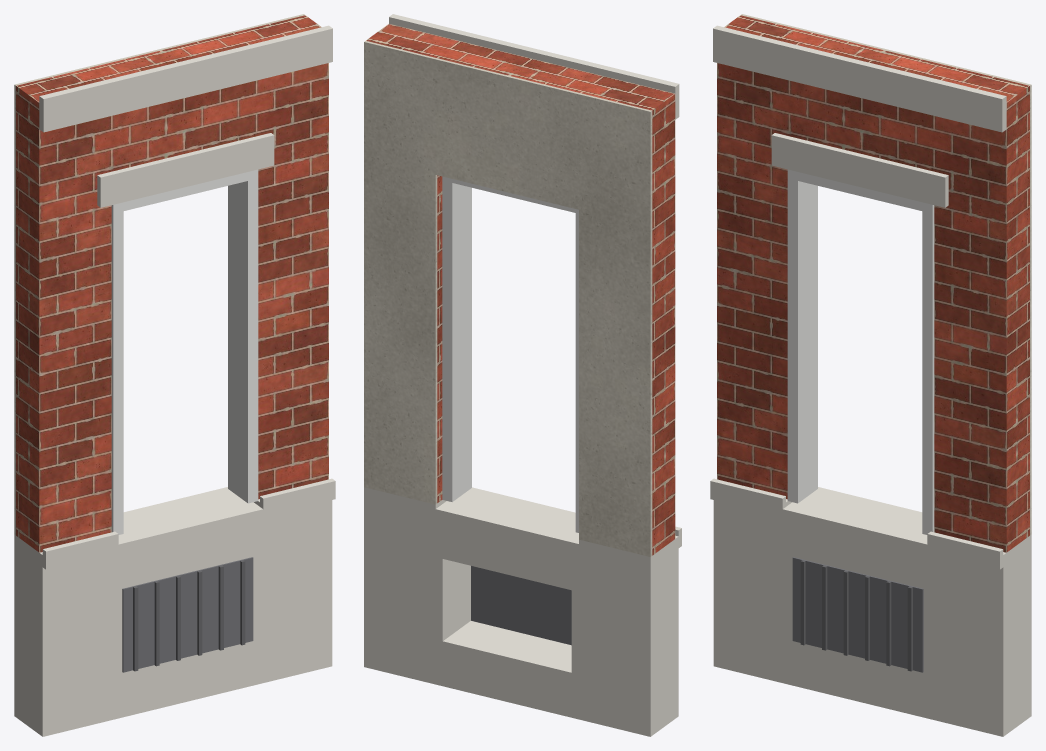
Rendered from wall_a0_backdoor.glb.
3 renders of one model, left to right at view 1: azimuth 30°, elevation 25°; view 2: azimuth 150°, elevation 25°; view 3: azimuth 330°, elevation 25°, orthographic.
Visible parts, largest first — view 1: wall_a0_backdoor_brick, wall_a0_backdoor_lime, wall_a0_backdoor_frame, wall_a0_backdoor_dark, wall_a0_backdoor_iron, wall_a0_backdoor_plaster; view 2: wall_a0_backdoor_plaster, wall_a0_backdoor_lime, wall_a0_backdoor_brick, wall_a0_backdoor_frame, wall_a0_backdoor_dark; view 3: wall_a0_backdoor_brick, wall_a0_backdoor_lime, wall_a0_backdoor_frame, wall_a0_backdoor_dark, wall_a0_backdoor_iron, wall_a0_backdoor_plaster.
Boxes of the visible parts, bbox=[...] form: wall_a0_backdoor_brick: bbox=[16, 15, 328, 552]; wall_a0_backdoor_lime: bbox=[14, 25, 335, 736]; wall_a0_backdoor_frame: bbox=[111, 169, 258, 534]; wall_a0_backdoor_dark: bbox=[122, 557, 253, 672]; wall_a0_backdoor_iron: bbox=[133, 560, 245, 671]; wall_a0_backdoor_plaster: bbox=[14, 14, 304, 535]; wall_a0_backdoor_plaster: bbox=[364, 41, 652, 556]; wall_a0_backdoor_lime: bbox=[364, 14, 681, 736]; wall_a0_backdoor_brick: bbox=[366, 24, 675, 555]; wall_a0_backdoor_frame: bbox=[442, 176, 578, 532]; wall_a0_backdoor_dark: bbox=[471, 566, 571, 645]; wall_a0_backdoor_brick: bbox=[717, 15, 1029, 552]; wall_a0_backdoor_lime: bbox=[710, 25, 1031, 736]; wall_a0_backdoor_frame: bbox=[787, 169, 934, 534]; wall_a0_backdoor_dark: bbox=[792, 557, 923, 672]; wall_a0_backdoor_iron: bbox=[800, 560, 912, 671]; wall_a0_backdoor_plaster: bbox=[741, 14, 1031, 535].
Bounding box in the file's own units: 2 × 4.22 × 0.38.
Materials: 6 (2 with a texture image).
